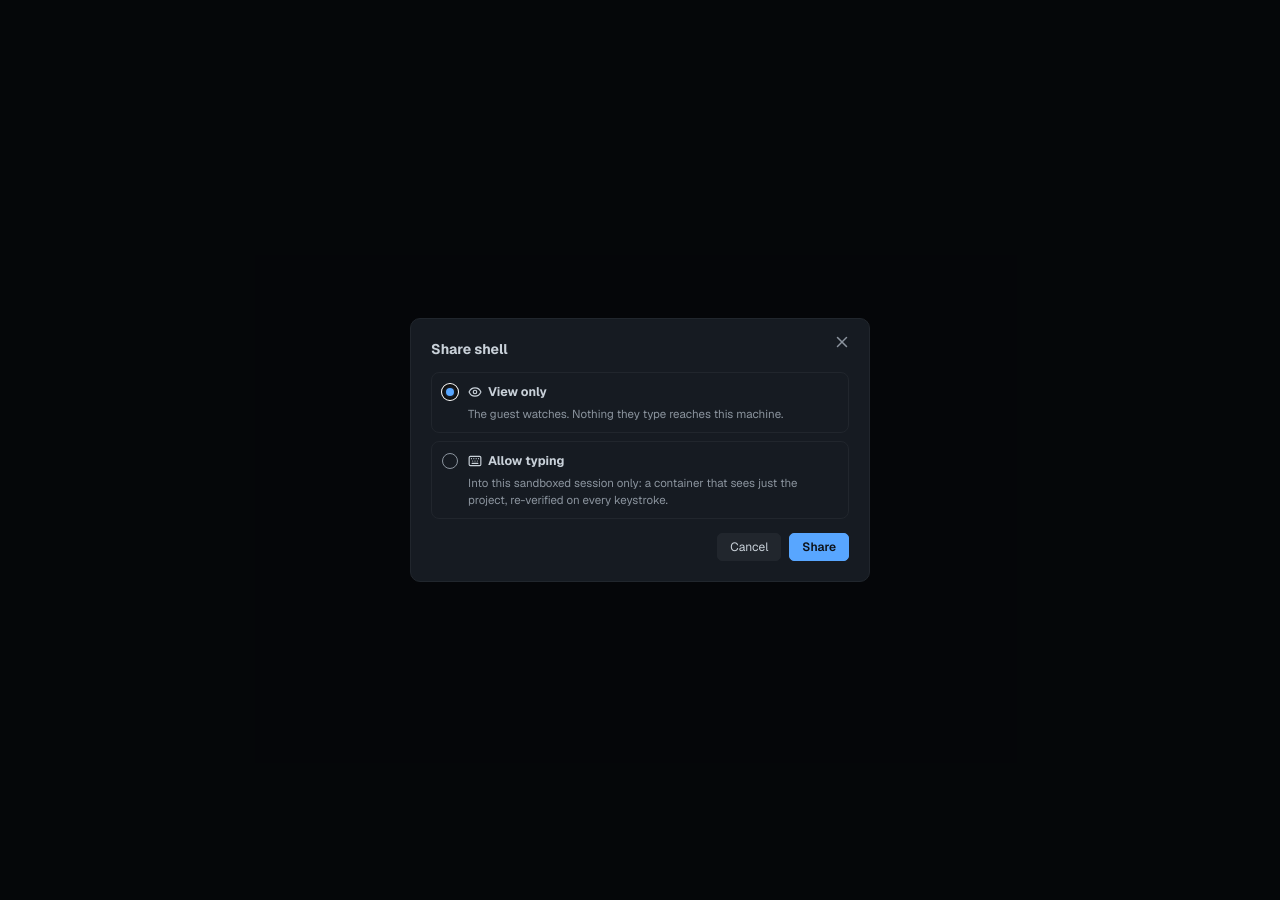
it: the server refuses with a reason: the dialog stays open on its choice, says so, and Share works again
The width and height of the screenshot is (1280, 900).
Click the button "Share" at (819, 547), box [789,533,849,561]
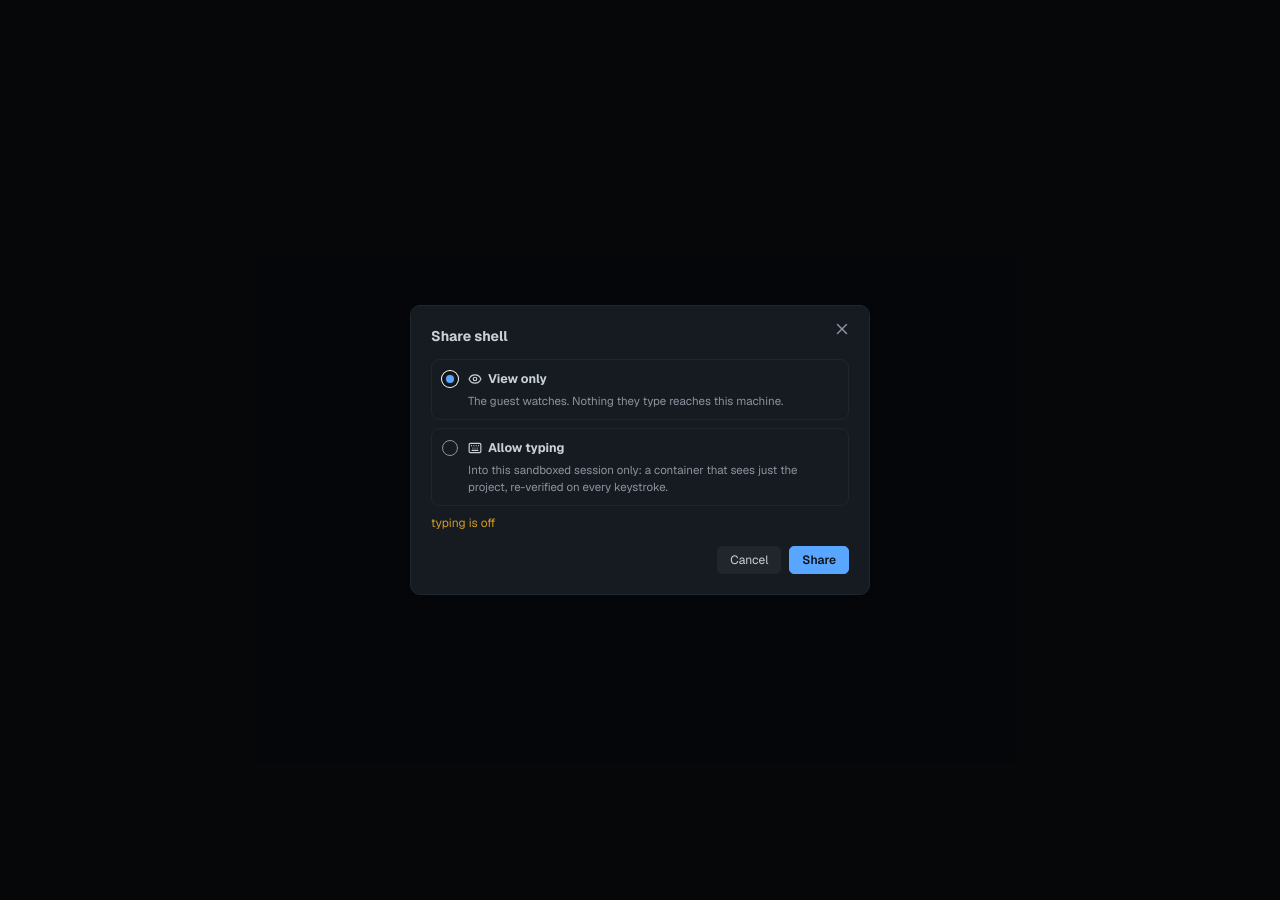
Expected: the button "Share" is enabled, [789,546,849,574]
Expected: the message reads "typing is off", [431,515,496,531]
